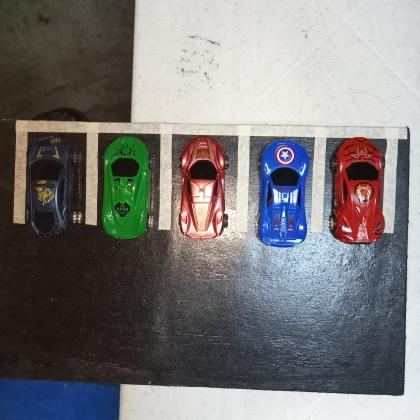Car: (330, 135, 386, 246), (258, 137, 310, 250), (25, 131, 77, 238), (101, 134, 152, 240), (178, 136, 229, 240)
